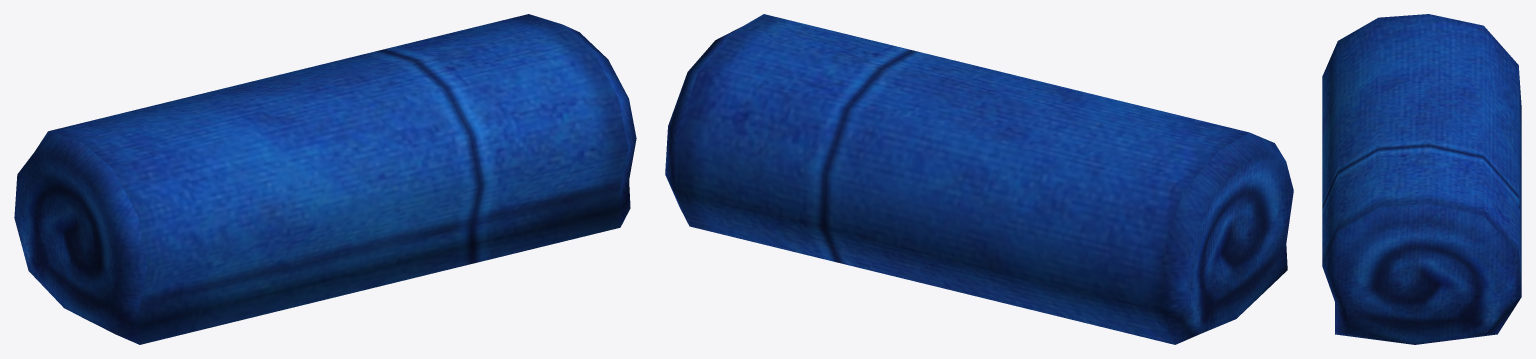
File: HuShiZhan_01_mabu_01.FBX
3 renders of one model, left to right at view 1: azimuth 30°, elevation 25°; view 2: azimuth 150°, elevation 25°; view 3: azimuth 270°, elevation 25°, orthographic. The views are drawn at different scales.
Visible parts, largest first — view 1: pCube17; view 2: pCube17; view 3: pCube17.
Boxes of the visible parts, bbox=[...] form: pCube17: bbox=[14, 14, 636, 344]; pCube17: bbox=[665, 14, 1293, 344]; pCube17: bbox=[1322, 14, 1521, 344].
Bounding box in the file's own units: 112 × 35.62 × 45.66.
